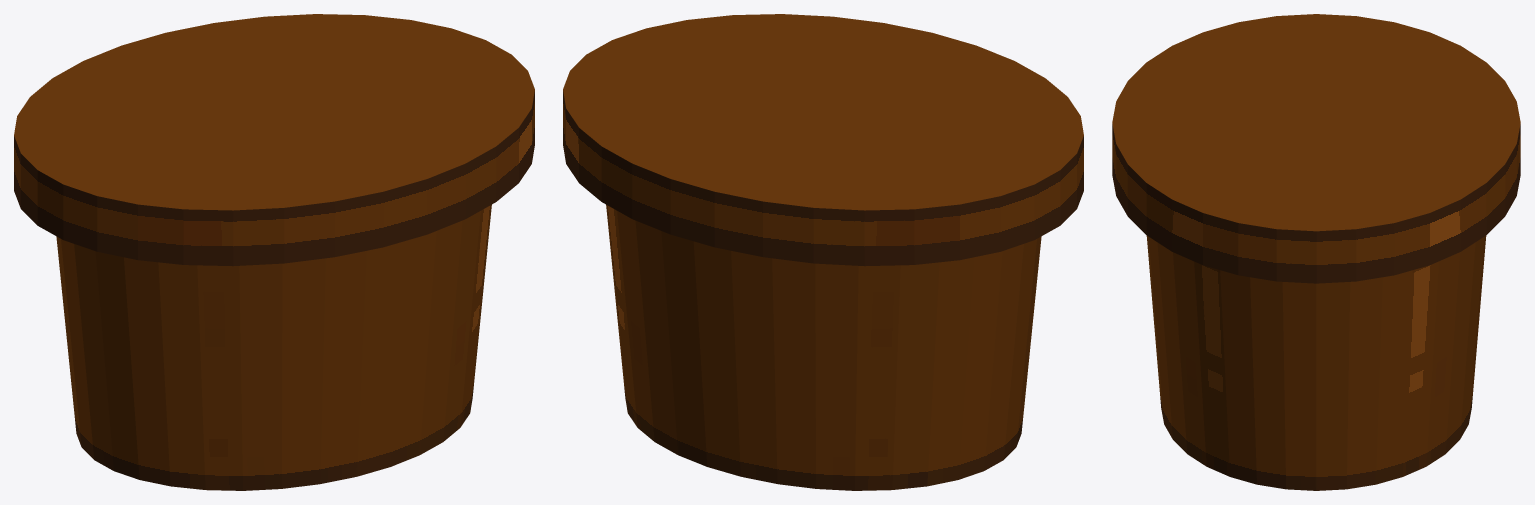
The model's file is Plant_pot.fbx.
3 views of the same model, side by side, from view 1: azimuth 30°, elevation 25°; view 2: azimuth 150°, elevation 25°; view 3: azimuth 270°, elevation 25° (orthographic). The views are drawn at different scales.
Parts seen in each view (by area): view 1: Plant_plot; view 2: Plant_plot; view 3: Plant_plot.
Boxes of the visible parts, bbox=[...] form: Plant_plot: bbox=[14, 14, 534, 490]; Plant_plot: bbox=[563, 14, 1083, 490]; Plant_plot: bbox=[1112, 14, 1520, 490].
Size of the model in its own units: 82.41 by 50.52 by 65.46.
